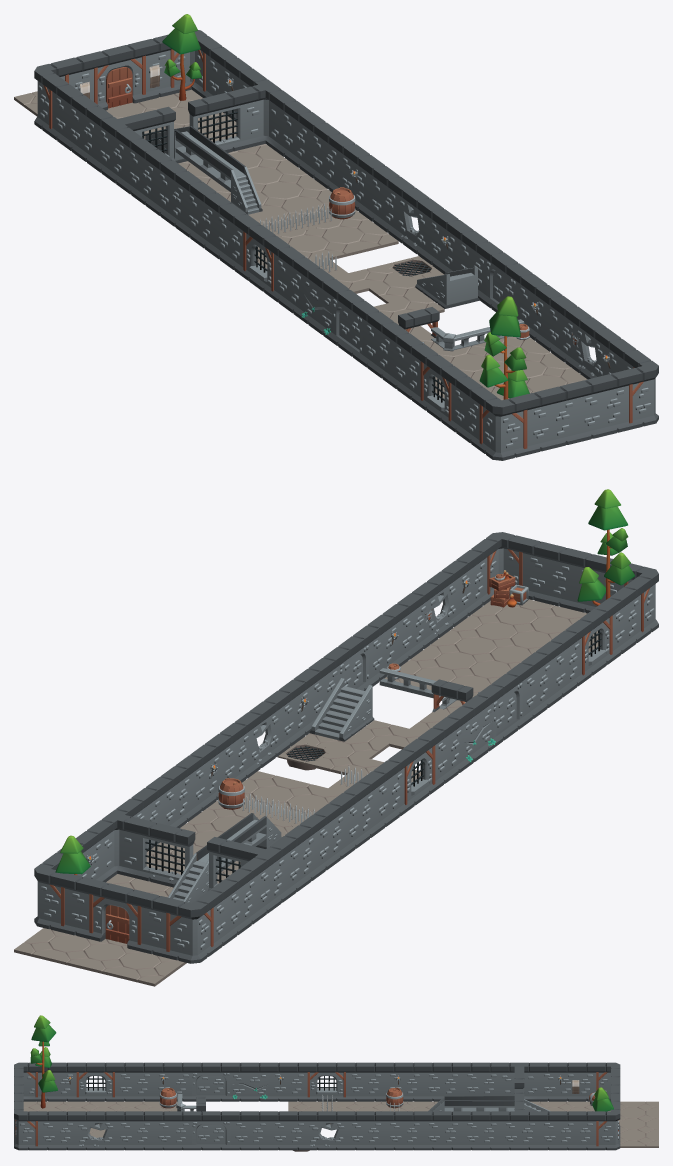
The model's file is Tutorial Level.fbx.
3 views of the same model, one above another, from view 1: azimuth 30°, elevation 25°; view 2: azimuth 150°, elevation 25°; view 3: azimuth 270°, elevation 25° (orthographic). The views are drawn at different scales.
Parts seen in each view (by area): view 1: wall.002, wall.001, wall_corner_scaffold.001, Tree_4_C_Color1.001, floor_tile_large.012, wall_Tsplit.001, wall_gated, wall_Tsplit.002, floor_tile_large.006, wall_doorway_scaffold.001, barrier.002, wall_archedwindow_gated_scaffold.001 (+48 smaller); view 2: Tree_4_C_Color1.001, wall.002, wall_corner_scaffold.004, floor_tile_large.002, wall_gated, stairs_long.001, floor_tile_large, wall_Tsplit.001, floor_tile_large.018, wall_doorway_scaffold.001, floor_tile_large.010, floor_tile_large.012 (+52 smaller); view 3: wall_Tsplit.001, wall.013, wall.007, wall.014, wall.020, wall.004, wall.005, wall.006, wall.009, wall.010, wall.012, wall_arched.002 (+36 smaller).
Part boxes in pixels (x1,y1,x2,y2): wall.002: [572, 371, 630, 441]; wall.001: [521, 383, 579, 454]; wall_corner_scaffold.001: [477, 392, 528, 460]; Tree_4_C_Color1.001: [479, 296, 529, 399]; floor_tile_large.012: [288, 211, 398, 260]; wall_Tsplit.001: [239, 73, 288, 151]; wall_gated: [188, 89, 246, 152]; wall_Tsplit.002: [93, 111, 143, 188]; floor_tile_large.006: [258, 181, 357, 227]; wall_doorway_scaffold.001: [88, 41, 146, 110]; barrier.002: [175, 126, 245, 192]; wall_archedwindow_gated_scaffold.001: [418, 349, 460, 426]; Tree_4_C_Color1.001: [577, 489, 634, 605]; wall.002: [521, 538, 578, 609]; wall_corner_scaffold.004: [165, 895, 215, 963]; floor_tile_large.002: [421, 622, 530, 669]; wall_gated: [136, 819, 195, 887]; stairs_long.001: [309, 678, 374, 741]; floor_tile_large: [461, 599, 571, 639]; wall_Tsplit.001: [94, 803, 143, 881]; floor_tile_large.018: [84, 942, 186, 986]; wall_doorway_scaffold.001: [88, 880, 146, 951]; floor_tile_large.010: [14, 928, 117, 969]; floor_tile_large.012: [217, 771, 327, 817]; wall_Tsplit.001: [500, 1105, 538, 1150]; wall.013: [538, 1111, 577, 1150]; wall.007: [115, 1062, 153, 1101]; wall.014: [346, 1062, 384, 1101]; wall.020: [423, 1111, 461, 1150]; wall.004: [38, 1111, 76, 1150]; wall.005: [115, 1111, 153, 1150]; wall.006: [153, 1111, 191, 1150]; wall.009: [230, 1111, 268, 1150]; wall.010: [269, 1111, 307, 1150]; wall.012: [346, 1111, 384, 1150]; wall_arched.002: [192, 1111, 230, 1150].
Bounding box in the file's own units: 2626 × 2266 × 13400.
30 materials, 30 textured.
